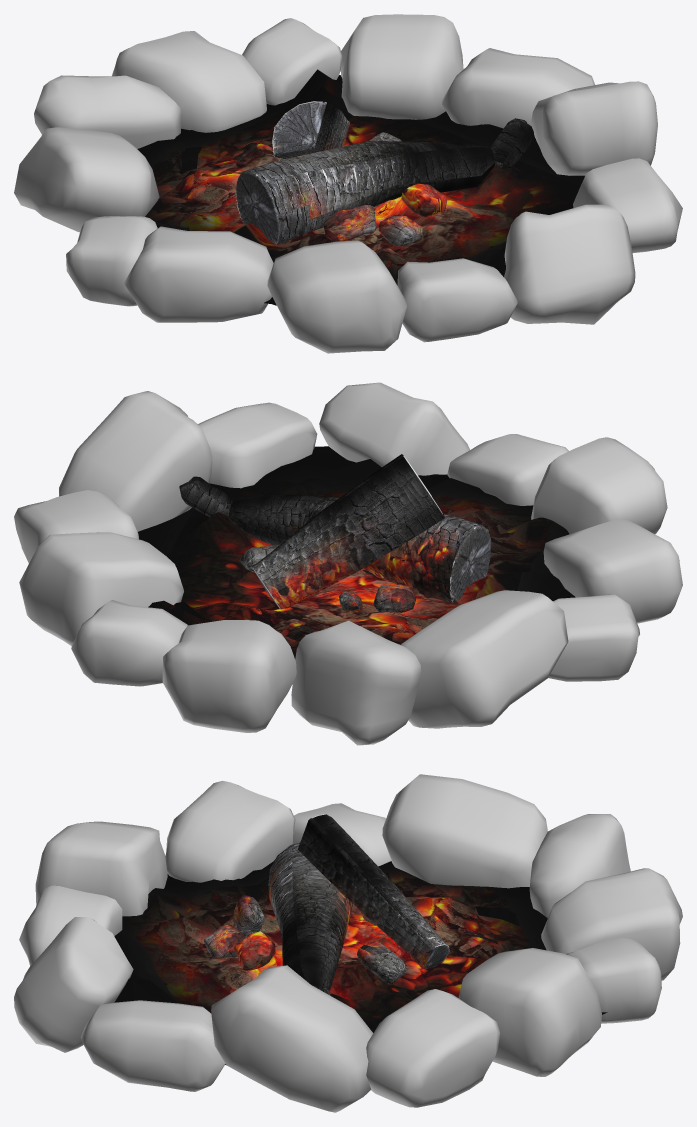
The model's file is FirePit.fbx.
3 renders of one model, top to bottom at view 1: azimuth 30°, elevation 25°; view 2: azimuth 150°, elevation 25°; view 3: azimuth 270°, elevation 25°, orthographic. The views are drawn at different scales.
Visible parts, largest first — view 1: Camp Fire; view 2: Camp Fire; view 3: Camp Fire.
Part boxes in pixels (x1=…): Camp Fire: x1=14, y1=14, x2=682, y2=353; Camp Fire: x1=14, y1=382, x2=682, y2=745; Camp Fire: x1=14, y1=774, x2=682, y2=1112.
Size of the model in its own units: 634 by 175 by 640.
